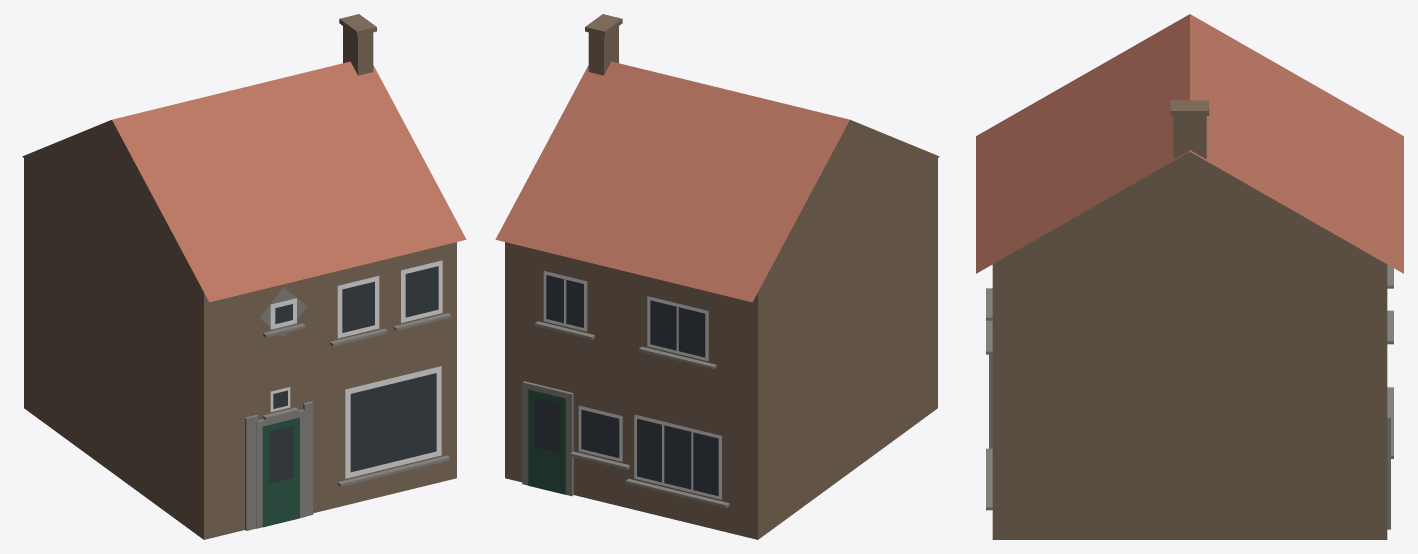
File: ws-wz-diamond__brick__2__gable__long__solid.glb
3 views of the same model, side by side, from view 1: azimuth 30°, elevation 25°; view 2: azimuth 150°, elevation 25°; view 3: azimuth 270°, elevation 25° (orthographic). The views are drawn at different scales.
Visible parts, largest first — view 1: ws-wz-diamond__brick__2__gable__long__solid; view 2: ws-wz-diamond__brick__2__gable__long__solid; view 3: ws-wz-diamond__brick__2__gable__long__solid.
Boxes of the visible parts, bbox=[...] form: ws-wz-diamond__brick__2__gable__long__solid: bbox=[22, 14, 466, 539]; ws-wz-diamond__brick__2__gable__long__solid: bbox=[495, 14, 939, 539]; ws-wz-diamond__brick__2__gable__long__solid: bbox=[976, 14, 1403, 539].
Size of the model in its own units: 5.87 by 8.54 by 7.71.
